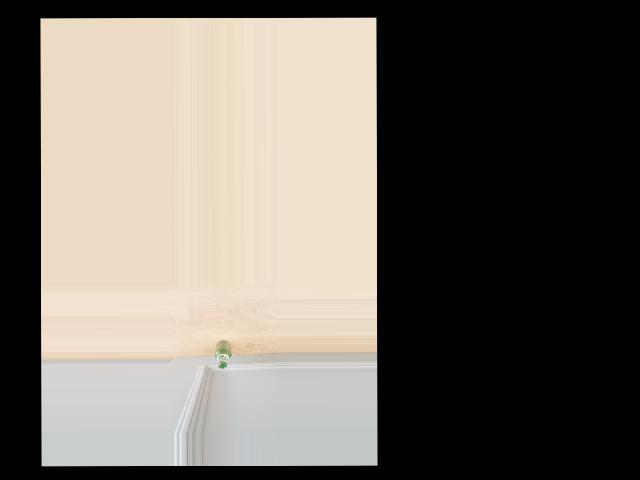beer: (214, 340, 231, 368)
